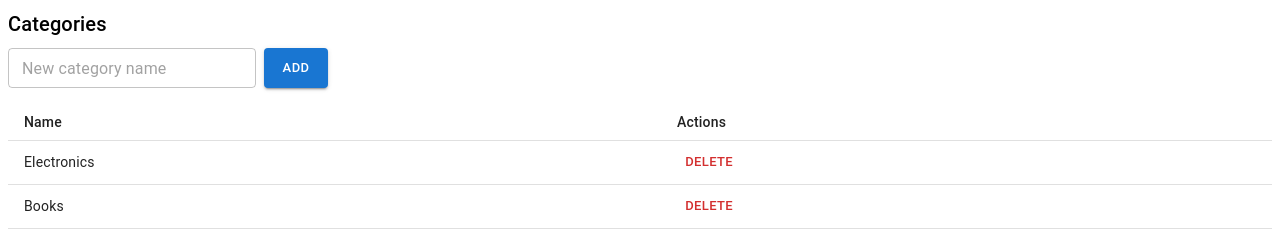
Test case: CategoryTable › deletes a category
expect the text "Electronics" is shown: met, box [8, 140, 661, 184]
Step 1. Click the button "Delete" in the row of "Electronics" → (709, 162), box [677, 147, 741, 178]
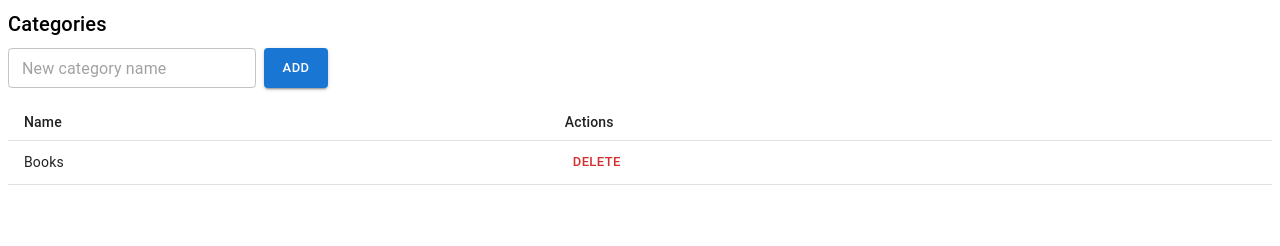
expect the text "Electronics" is gone: met
